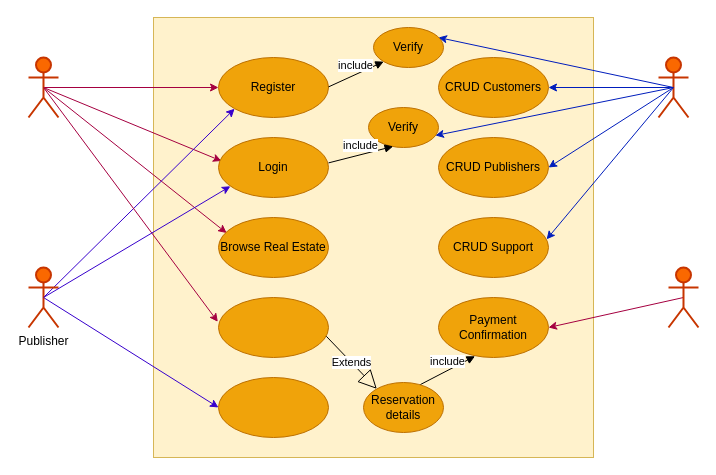
This 716x475 diagram has some shape labels left out. Each missing label, with the box of its shape:
Admin: (657, 56, 689, 118)
Bank: (667, 266, 699, 328)
Customer: (27, 56, 59, 118)
Publish Real Estate: (218, 376, 328, 438)
Reserve real estate: (218, 296, 328, 358)
